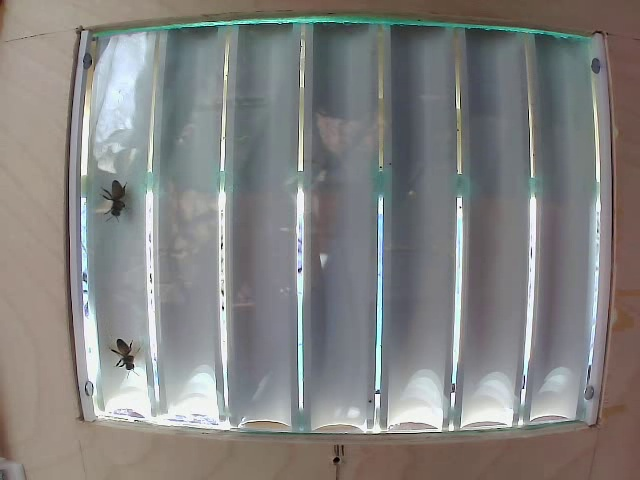bee: (98, 336, 150, 379), (93, 185, 126, 220)
